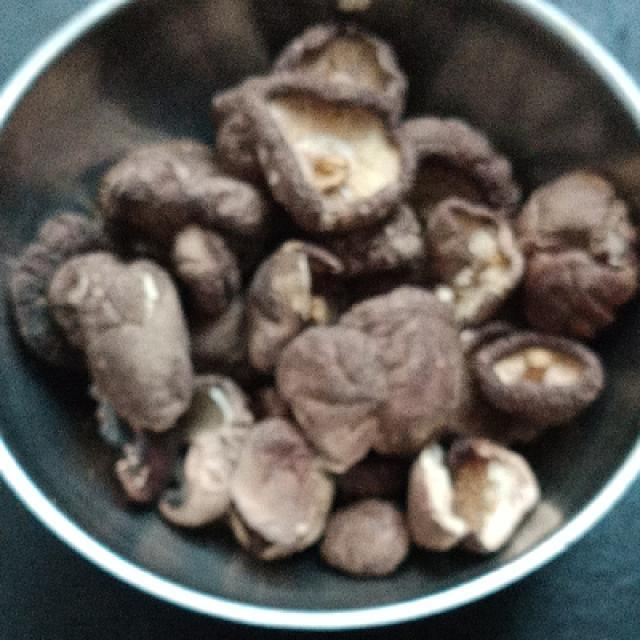Lentinus edodes: (280, 292, 466, 463), (242, 75, 414, 233), (89, 261, 194, 425), (531, 168, 640, 322), (230, 421, 328, 569), (434, 204, 523, 327), (481, 334, 604, 421)
